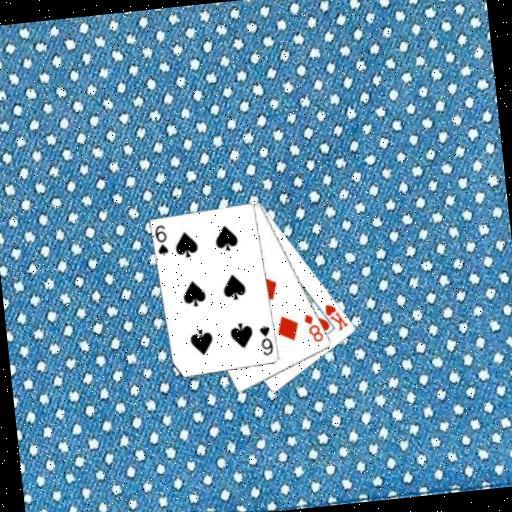6S: (256, 322, 276, 359), (152, 222, 170, 257)
8D: (301, 310, 326, 346)
KH: (322, 300, 351, 334)
